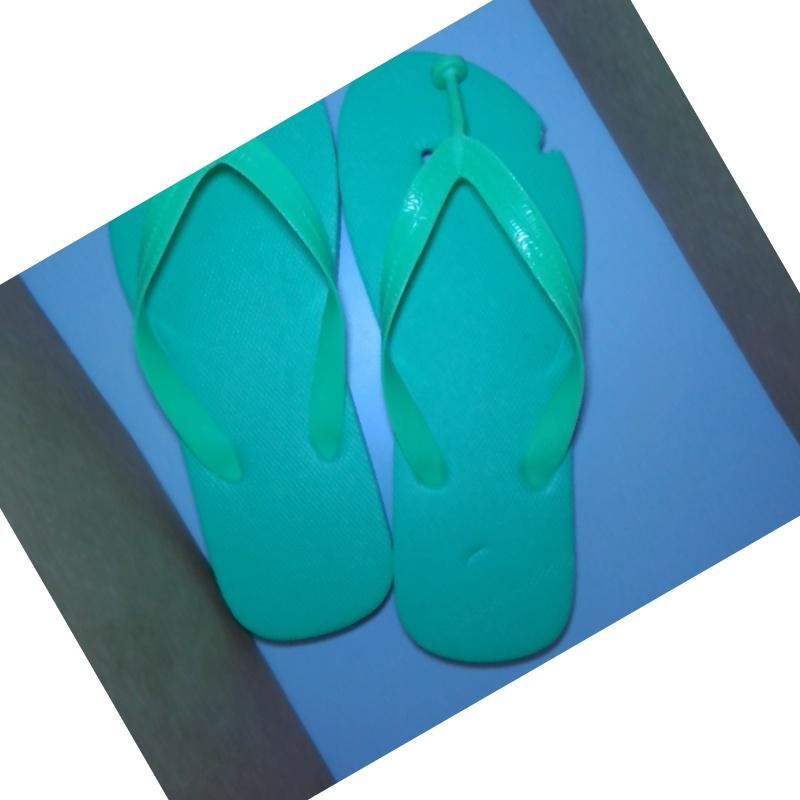chipped: (526, 104, 580, 167)
detached: (422, 49, 478, 110)
